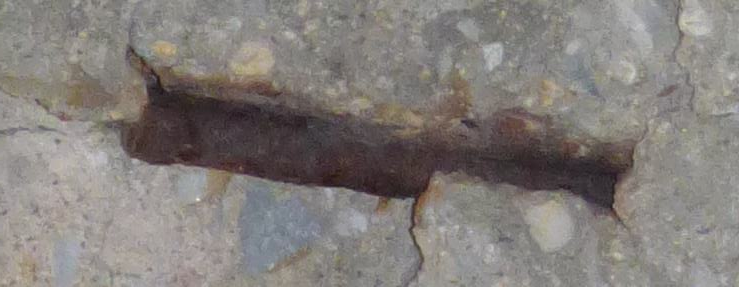Exposed reinforcement: (120, 87, 622, 209)
